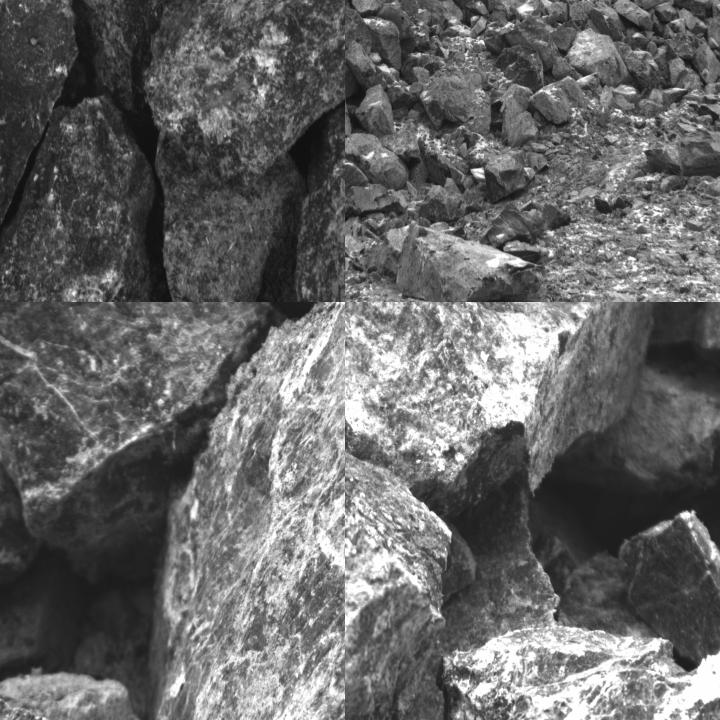stone: (139, 302, 344, 719), (0, 302, 287, 586), (345, 302, 657, 521), (345, 302, 454, 719), (0, 97, 197, 301), (143, 0, 344, 168), (435, 626, 719, 719), (158, 136, 303, 301), (0, 0, 77, 245), (617, 508, 719, 664), (296, 23, 344, 301), (67, 0, 171, 123), (395, 224, 546, 301), (0, 360, 43, 592), (0, 683, 169, 719), (423, 57, 493, 136), (565, 27, 633, 87), (345, 134, 410, 190), (485, 146, 547, 200), (479, 203, 544, 249), (498, 84, 540, 148), (532, 76, 589, 123), (494, 46, 545, 94), (362, 15, 402, 74), (414, 178, 463, 223), (354, 85, 394, 138), (345, 41, 388, 90), (623, 48, 660, 92), (591, 2, 626, 42), (345, 8, 372, 54), (694, 42, 719, 87), (345, 41, 357, 101), (351, 0, 394, 15), (491, 0, 535, 10), (631, 0, 663, 10)
